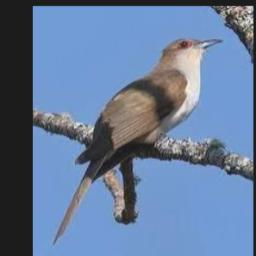Cuckoo: (53, 37, 223, 244)
